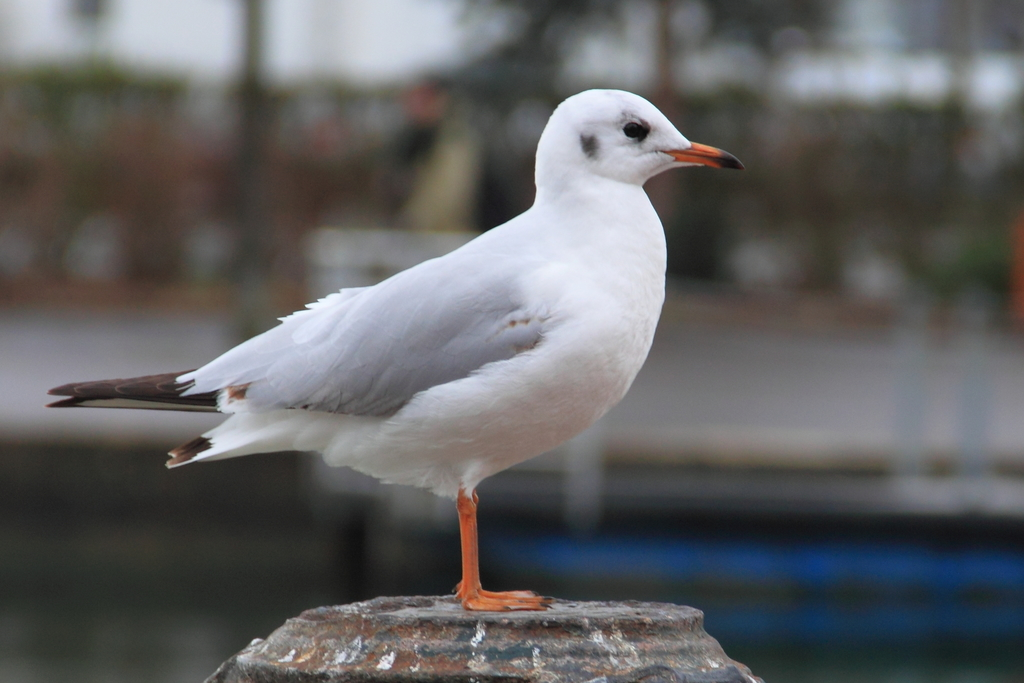Bird: (44, 89, 745, 612)
